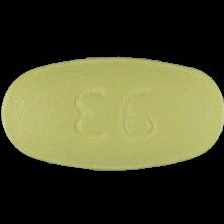33261-838: (0, 0, 224, 224)
